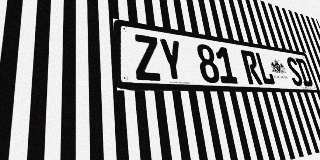1: (214, 46, 238, 84)
8: (195, 43, 221, 83)
D: (295, 58, 314, 87)
L: (254, 52, 276, 85)
R: (240, 50, 263, 85)
S: (285, 56, 304, 86)
Y: (158, 37, 186, 82)
Z: (132, 34, 162, 81)
